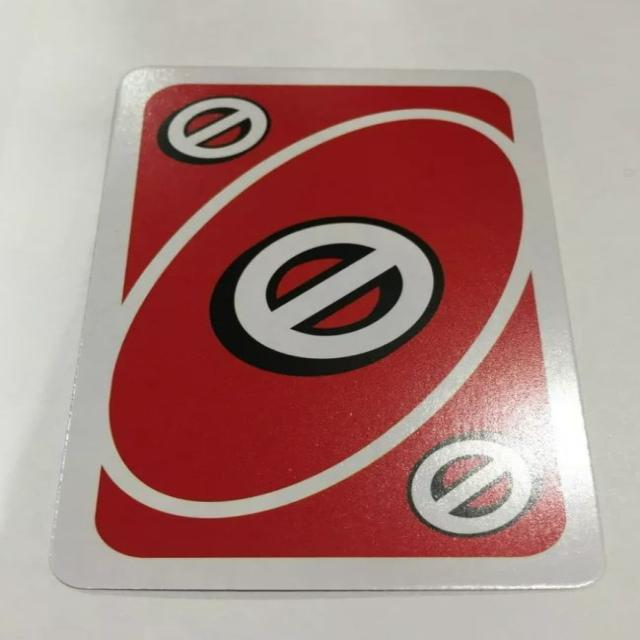Red_Card: (88, 74, 578, 567)
Skip: (152, 91, 274, 167)
